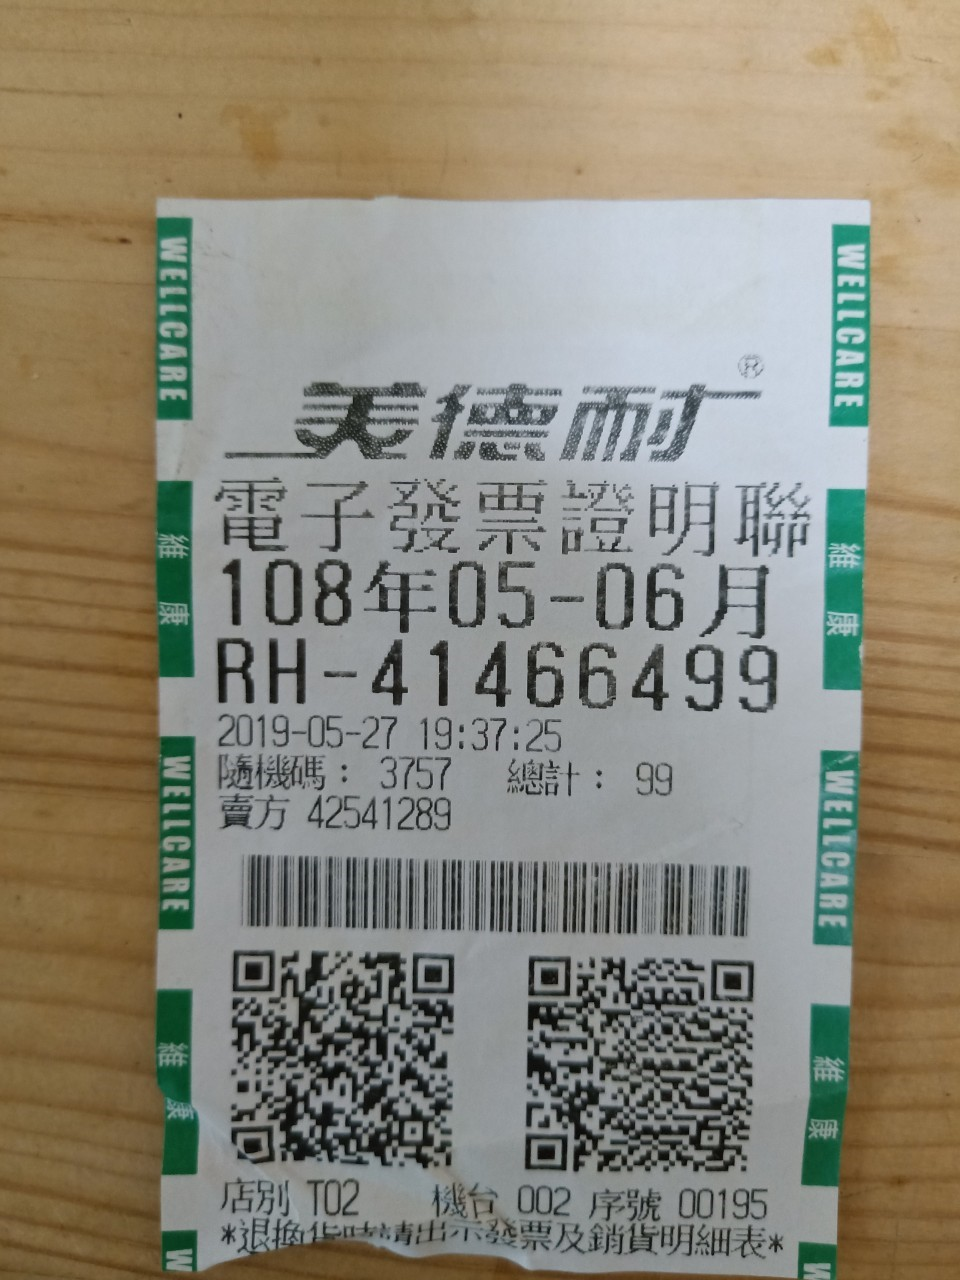Date_New: (220, 557, 773, 643)
Number_New: (371, 638, 783, 718)
